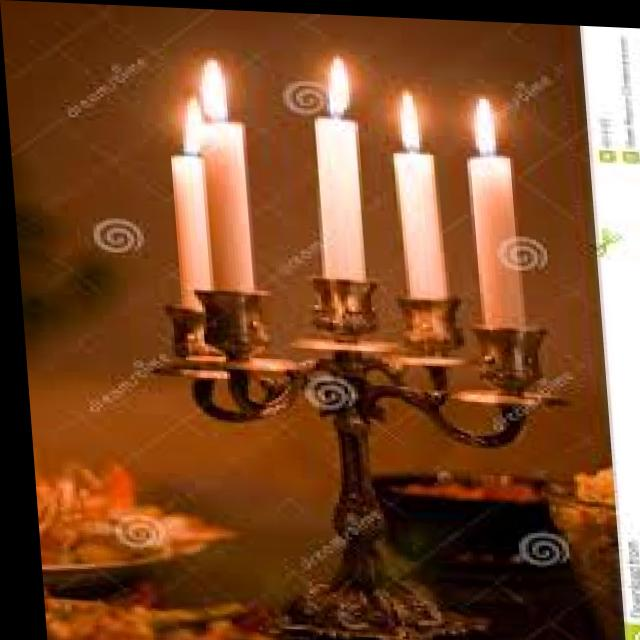fire: (165, 83, 216, 160), (179, 50, 237, 117), (384, 81, 435, 156), (454, 91, 508, 159), (315, 45, 356, 119)
